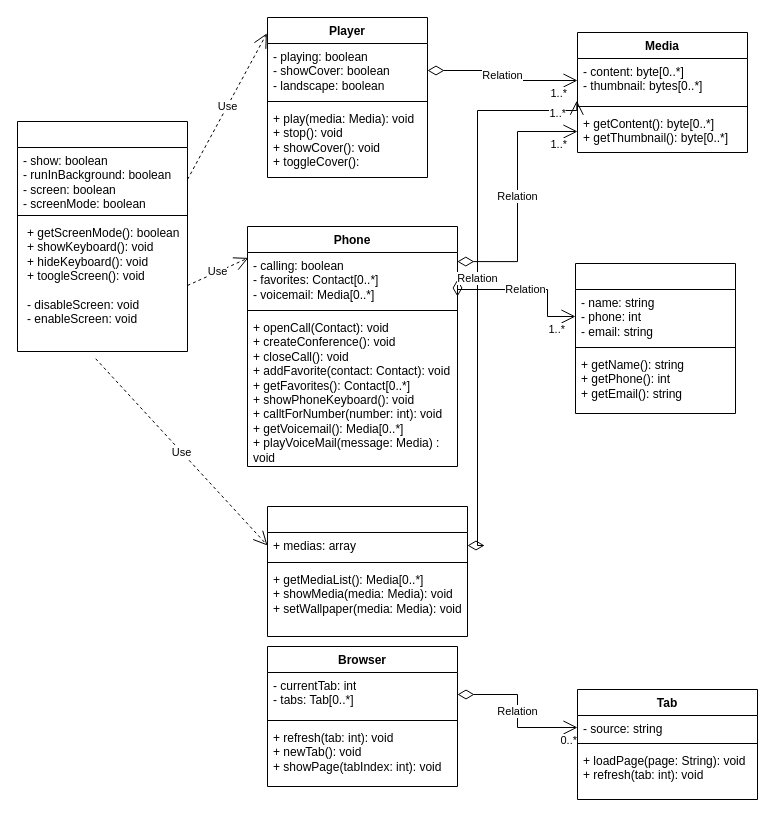
Image size: 775x820. Some labels were removed from this diagram. Here are the shapes that lost their labels. From the top down, the box of each, then its label:
(16, 120, 188, 352): App
(574, 262, 736, 414): Co ntact
(266, 506, 468, 636): Gall ery
